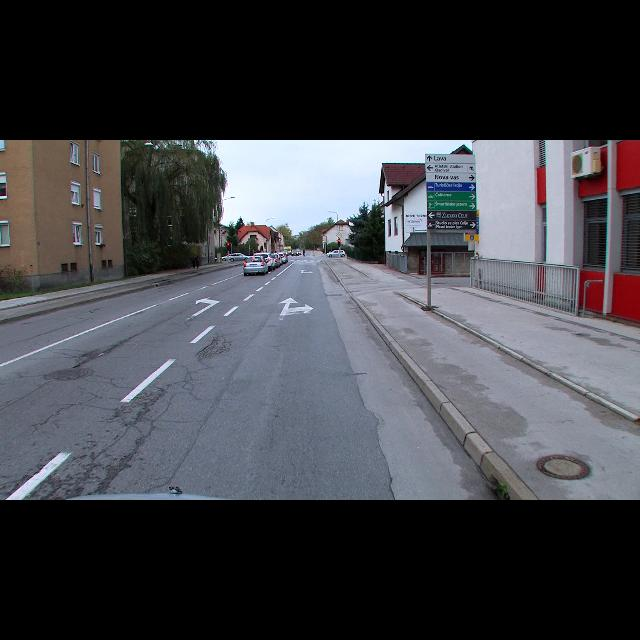Multi-inform: (424, 152, 478, 230)
